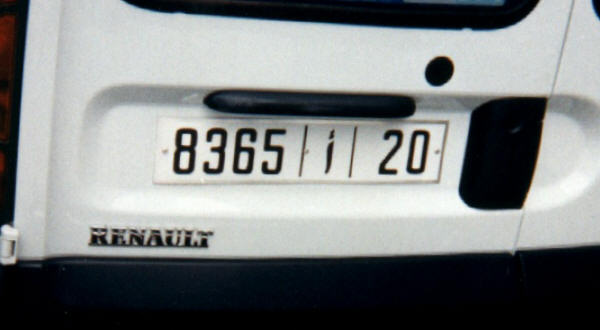number_plate: (153, 120, 449, 183)
